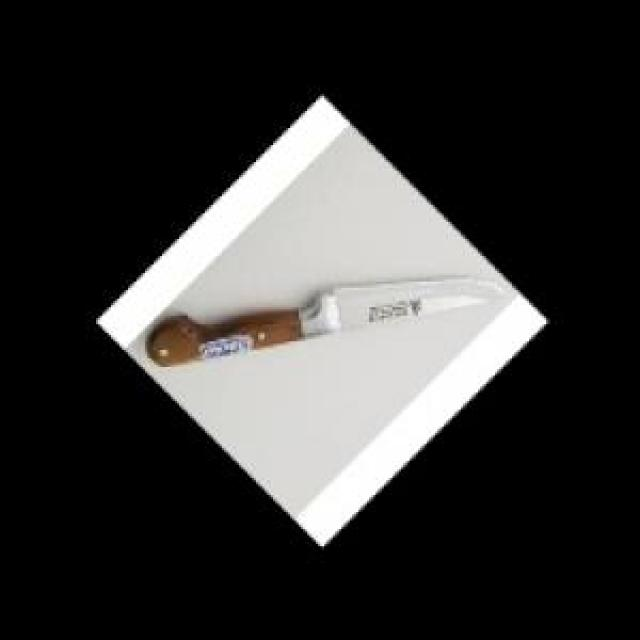knife: (143, 271, 510, 365)
